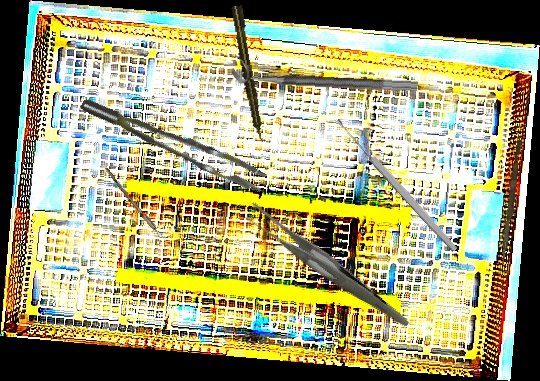Dressing Forceps: (239, 169, 411, 366)
Fixation Ring: (231, 55, 419, 93)
Handpiece: (230, 4, 267, 144)
Pusher: (500, 139, 523, 265)
Surgical Spoon: (334, 116, 459, 254), (103, 167, 175, 252)
Tissue Forceps: (79, 74, 270, 210)
